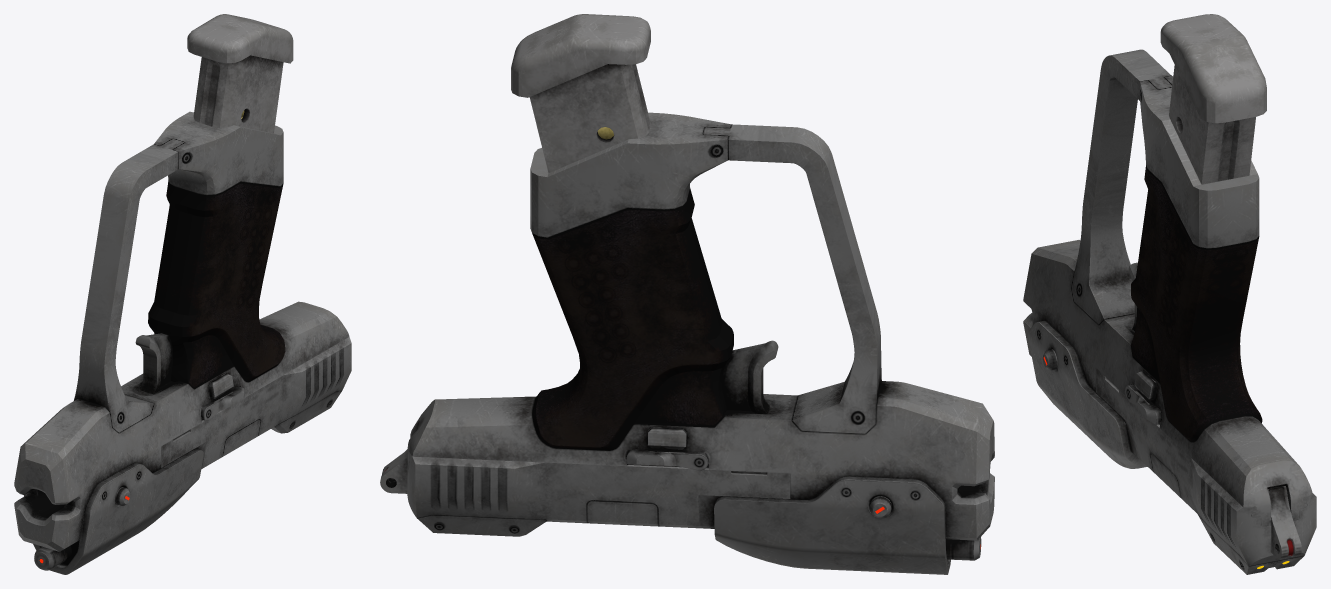
Rendered from gun.fbx.
The picture shows the model from 3 angles, left to right: view 1: azimuth 30°, elevation 25°; view 2: azimuth 150°, elevation 25°; view 3: azimuth 270°, elevation 25°; orthographic projection. The views are drawn at different scales.
Parts seen in each view (by area): view 1: Cube.003, Cube.002, Cube.009, Cube.010, Cylinder.025; view 2: Cube.003, Cube.009, Cube.010, Cube.002, Cylinder.025; view 3: Cube.003, Cube.002, Cube.009, Cube.010, Cylinder.025.
Boxes of the visible parts, left/top/right/bottom form: Cube.003: left=14, top=111, right=349, bottom=551; Cube.002: left=187, top=14, right=293, bottom=133; Cube.009: left=161, top=337, right=351, bottom=468; Cube.010: left=24, top=448, right=203, bottom=574; Cylinder.025: left=135, top=333, right=244, bottom=420; Cube.003: left=407, top=112, right=994, bottom=540; Cube.009: left=407, top=452, right=790, bottom=536; Cube.010: left=714, top=476, right=981, bottom=574; Cube.002: left=511, top=14, right=650, bottom=172; Cylinder.025: left=380, top=340, right=778, bottom=493; Cube.003: left=1023, top=49, right=1312, bottom=526; Cube.002: left=1160, top=14, right=1266, bottom=184; Cube.009: left=1096, top=368, right=1316, bottom=574; Cube.010: left=1028, top=320, right=1147, bottom=468; Cylinder.025: left=1125, top=262, right=1301, bottom=559.
Bounding box in the file's own units: 0.2885 × 0.291 × 0.154.
